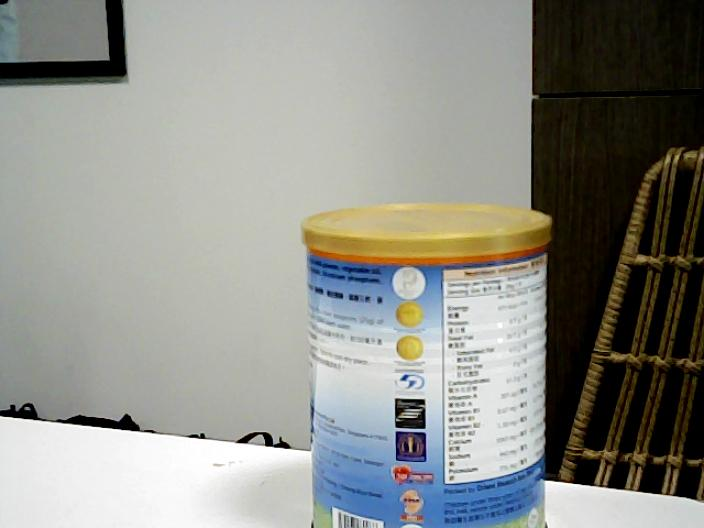Babymilk-powder_400-499g_Halal_NonHealthy: (306, 206, 547, 528)
